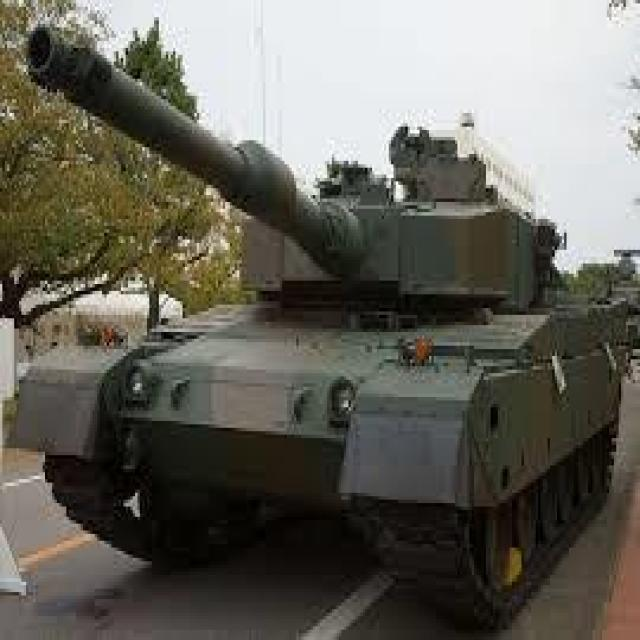MIL_MBT: (9, 12, 564, 614)
